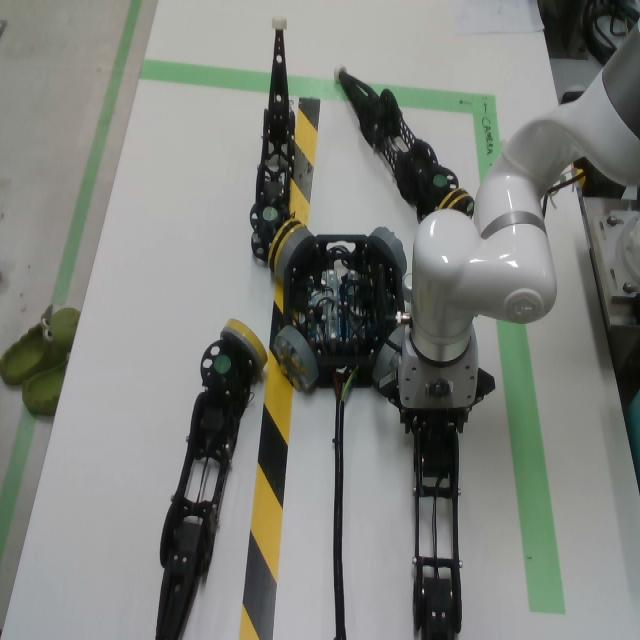body: (284, 235, 405, 388)
body_connector: (274, 325, 319, 391), (373, 325, 406, 384), (277, 227, 315, 277), (369, 227, 407, 277)
gripper: (378, 327, 495, 435)
leg: (155, 319, 268, 640), (333, 61, 475, 224), (249, 13, 304, 275), (411, 413, 462, 640)
leg_connector: (220, 319, 268, 372), (268, 217, 305, 275), (437, 188, 474, 219)
leg_marker: (214, 355, 230, 373), (263, 207, 278, 220), (434, 175, 447, 187)
